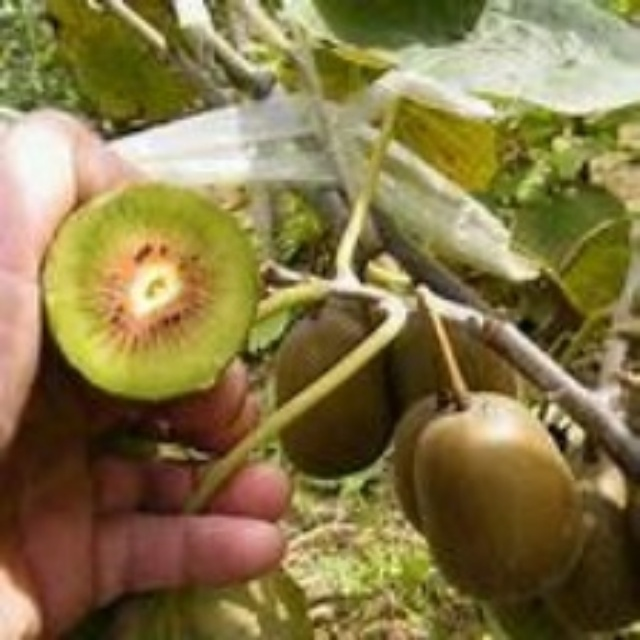kiwi: (47, 173, 254, 400), (405, 386, 576, 600), (258, 293, 424, 486)
